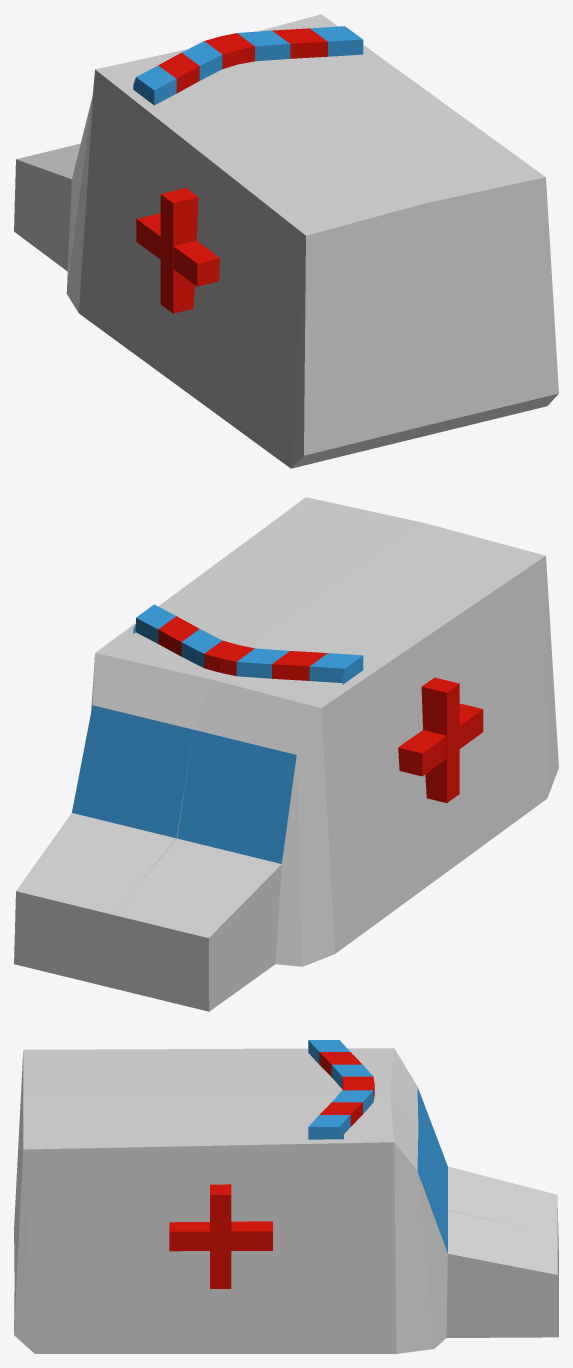
Rendered from ExportedBlenderFBXFile.fbx.
3 views of the same model, one above another, from view 1: azimuth 30°, elevation 25°; view 2: azimuth 150°, elevation 25°; view 3: azimuth 270°, elevation 25° (orthographic). The views are drawn at different scales.
Visible parts, largest first — view 1: Cube; view 2: Cube; view 3: Cube.
Boxes of the visible parts, bbox=[...] form: Cube: bbox=[14, 14, 558, 468]; Cube: bbox=[14, 497, 558, 1011]; Cube: bbox=[14, 1040, 558, 1353].
Bounding box in the file's own units: 1.22 × 1.03 × 2.35.
